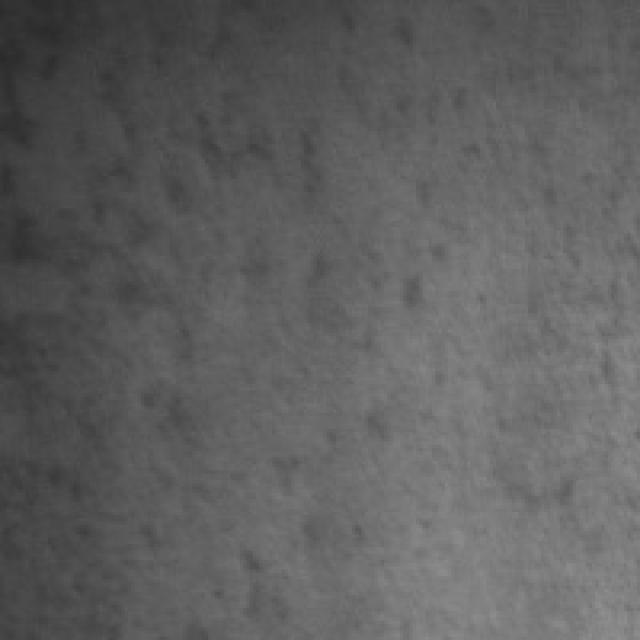pitted_surface: (29, 54, 416, 602), (314, 32, 614, 531)
